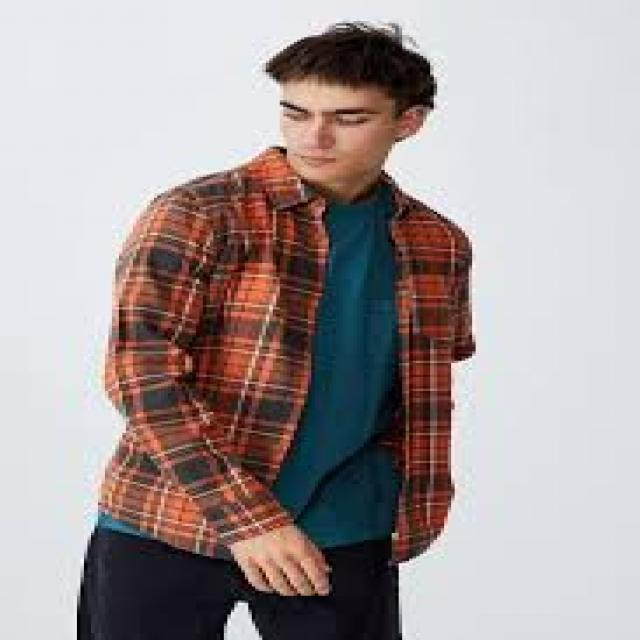plaid: (91, 135, 483, 573)
